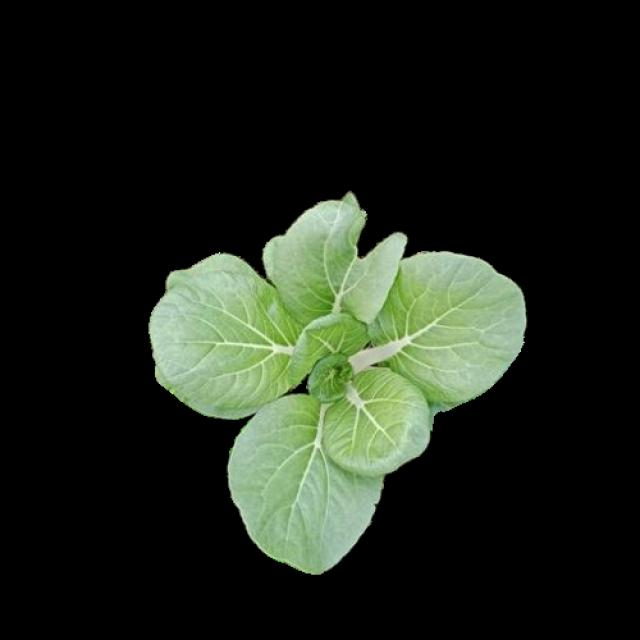not-mature: (154, 190, 526, 566)
unhealthy: (265, 191, 407, 324)
